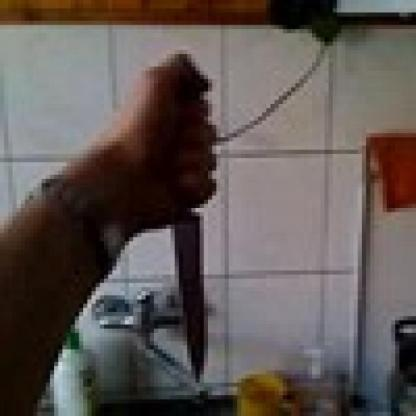Knife: (146, 66, 228, 374)
